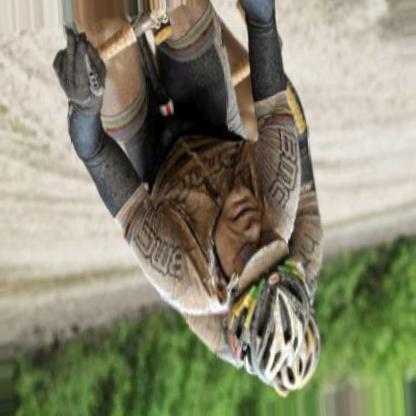with helmet: (208, 187, 326, 394)
